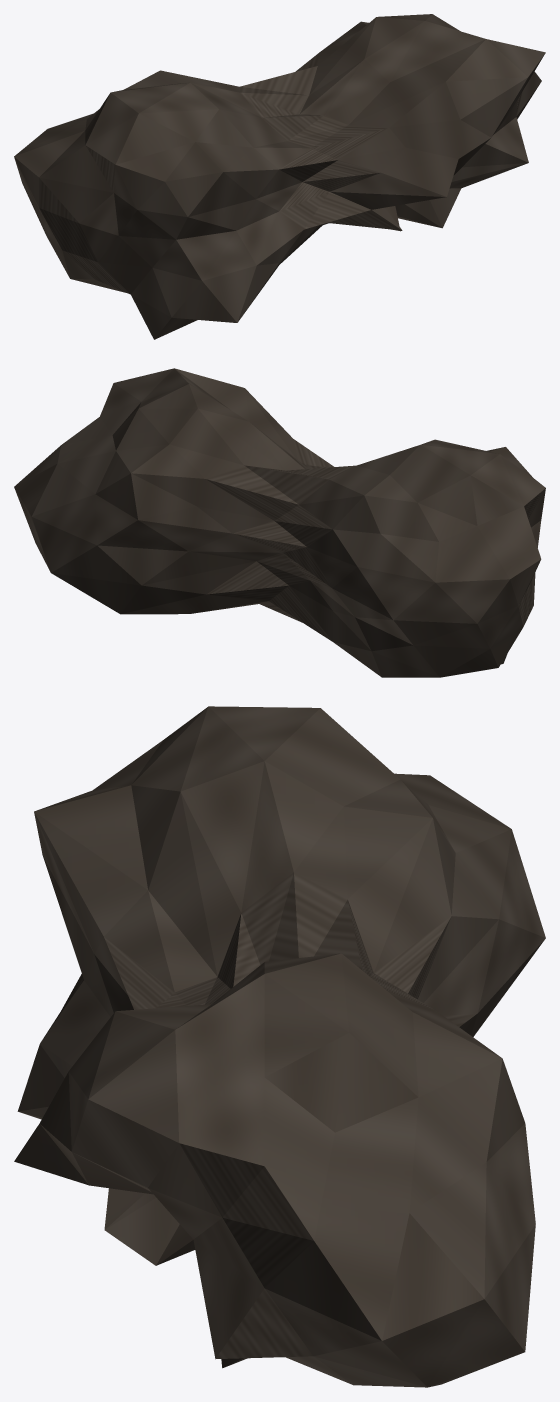
File: asteroid_6.glb
3 renders of one model, top to bottom at view 1: azimuth 30°, elevation 25°; view 2: azimuth 150°, elevation 25°; view 3: azimuth 270°, elevation 25°, orthographic. The views are drawn at different scales.
Visible parts, largest first — view 1: asteroid_bilobed; view 2: asteroid_bilobed; view 3: asteroid_bilobed.
Part boxes in pixels (left/top/right/bottom): asteroid_bilobed: left=14, top=14, right=545, bottom=339; asteroid_bilobed: left=14, top=368, right=545, bottom=677; asteroid_bilobed: left=14, top=706, right=545, bottom=1387.
Bounding box in the file's own units: 8 × 3.45 × 3.68.
Materials: 1 (1 with a texture image).
